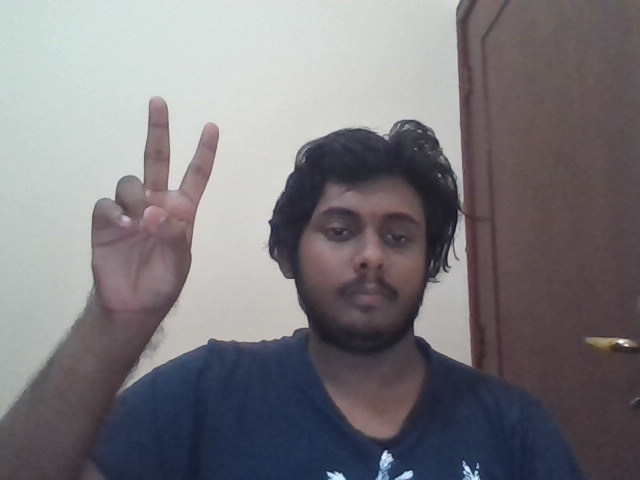peace: (91, 94, 219, 317)
